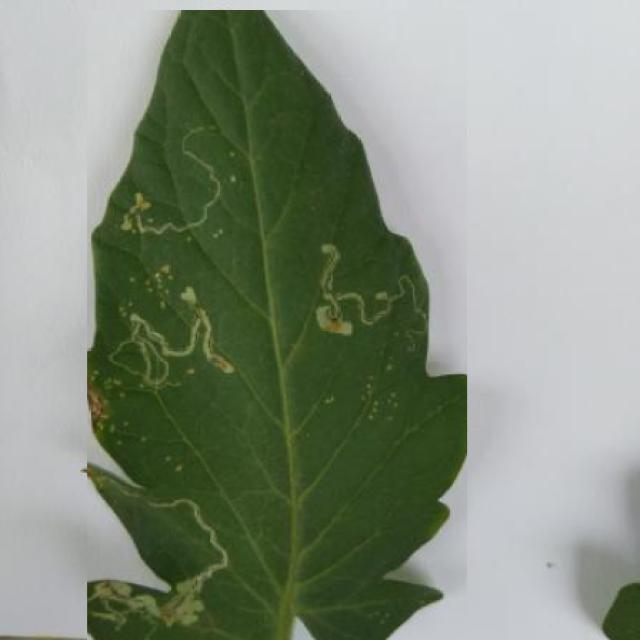Leaf Miner: (88, 10, 468, 640)
